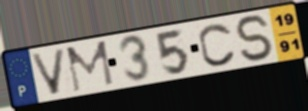3: (118, 33, 153, 85)
5: (153, 26, 192, 76)
C: (197, 22, 239, 68)
M: (64, 38, 116, 94)
S: (233, 13, 277, 63)
V: (28, 47, 68, 97)
